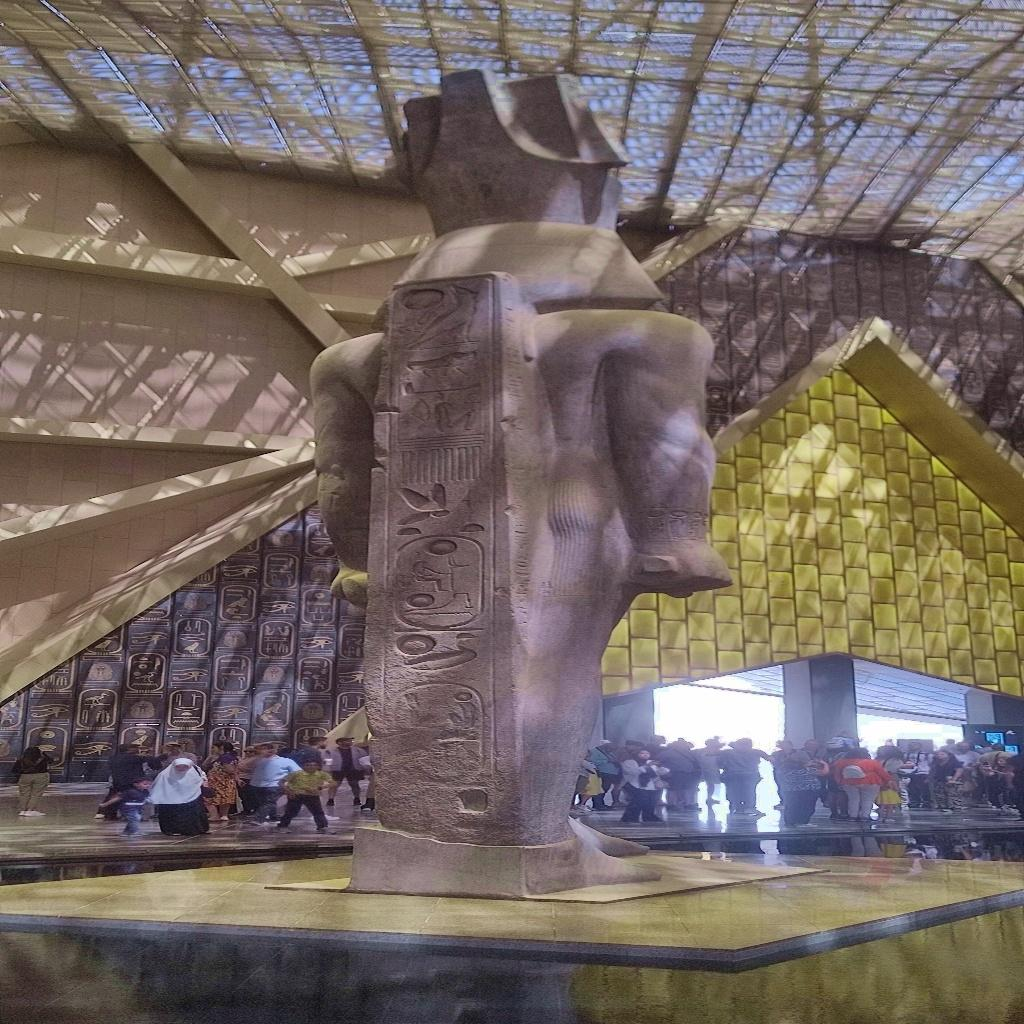Colossal Statue of Ramesses II beloved of Ptah: (296, 66, 748, 900)
